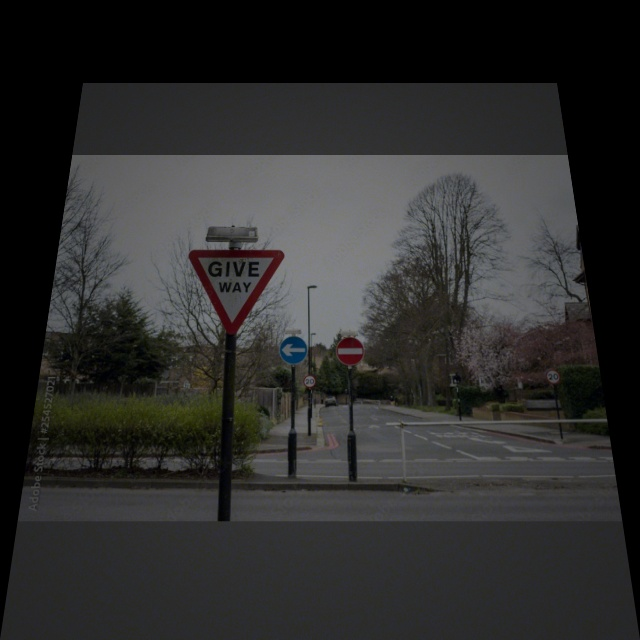Give_Way: (182, 249, 285, 333)
